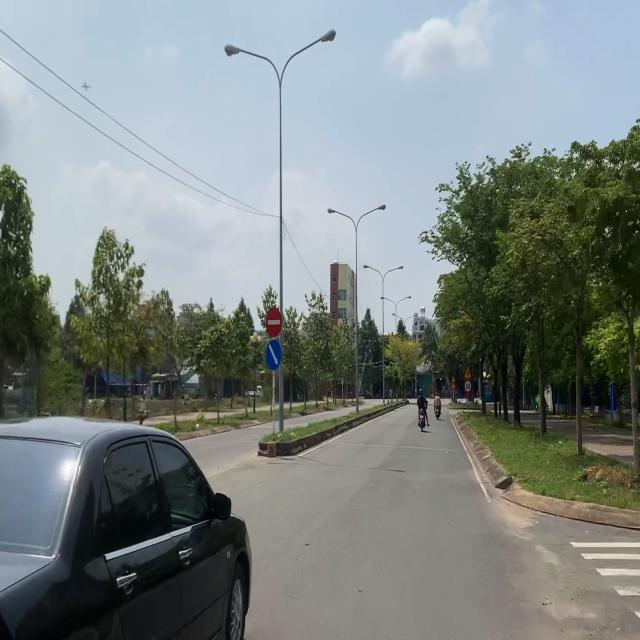Cam nguoc chieu: (265, 306, 283, 338)
Giao voi duong khong uu tien: (464, 367, 471, 379)
Hieu lenh: (265, 338, 282, 372)
Toc do toi da: (464, 380, 472, 392)
